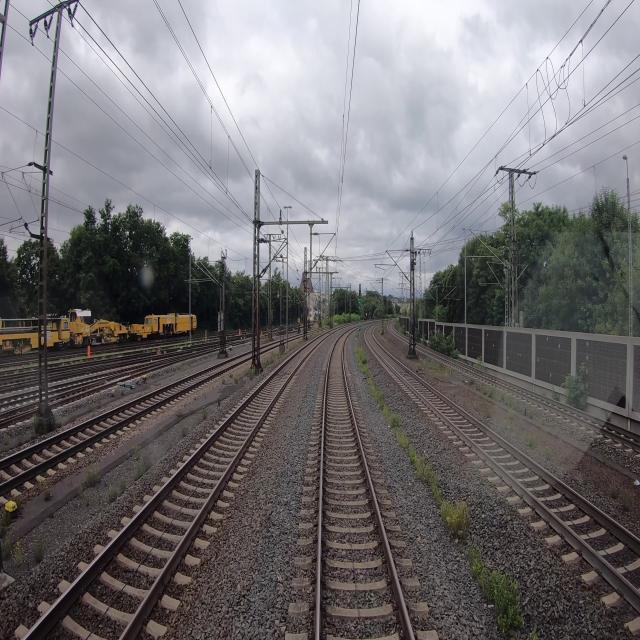Plant: (471, 544, 524, 633), (368, 376, 408, 449), (409, 448, 441, 502), (441, 499, 470, 544), (0, 498, 22, 539), (2, 536, 26, 566), (354, 344, 368, 374), (85, 466, 102, 487), (499, 392, 519, 409), (32, 539, 46, 561), (621, 490, 631, 511), (523, 431, 535, 447), (118, 479, 128, 497), (132, 444, 143, 459), (135, 463, 144, 481), (109, 483, 117, 503), (199, 406, 208, 423), (610, 483, 619, 499), (484, 406, 495, 419), (43, 486, 52, 501), (247, 364, 255, 380), (543, 447, 552, 461), (502, 414, 508, 432), (488, 385, 496, 397), (181, 425, 188, 437), (84, 494, 92, 504), (176, 407, 184, 417), (529, 407, 535, 419), (217, 395, 222, 406), (233, 373, 238, 383), (221, 377, 225, 385), (228, 372, 233, 378)
